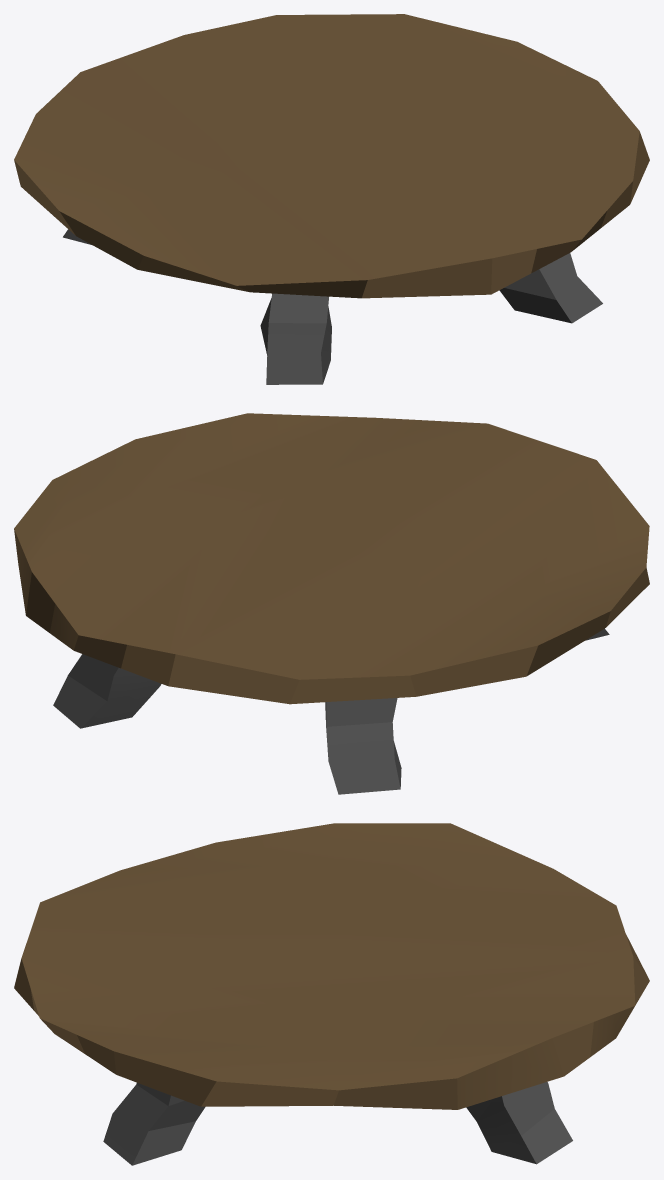
Rendered from RoundTable.fbx.
3 renders of one model, top to bottom at view 1: azimuth 30°, elevation 25°; view 2: azimuth 150°, elevation 25°; view 3: azimuth 270°, elevation 25°, orthographic. The views are drawn at different scales.
Visible parts, largest first — view 1: RoundTable; view 2: RoundTable; view 3: RoundTable.
Boxes of the visible parts, box(x1,y1,x2,y2) form: RoundTable: box(14, 14, 649, 384); RoundTable: box(14, 413, 649, 794); RoundTable: box(14, 823, 649, 1165).
Size of the model in its own units: 348 by 81.43 by 352.
